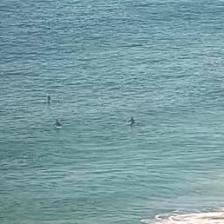surfer: (54, 119, 62, 128), (128, 117, 134, 125), (47, 95, 52, 101)
